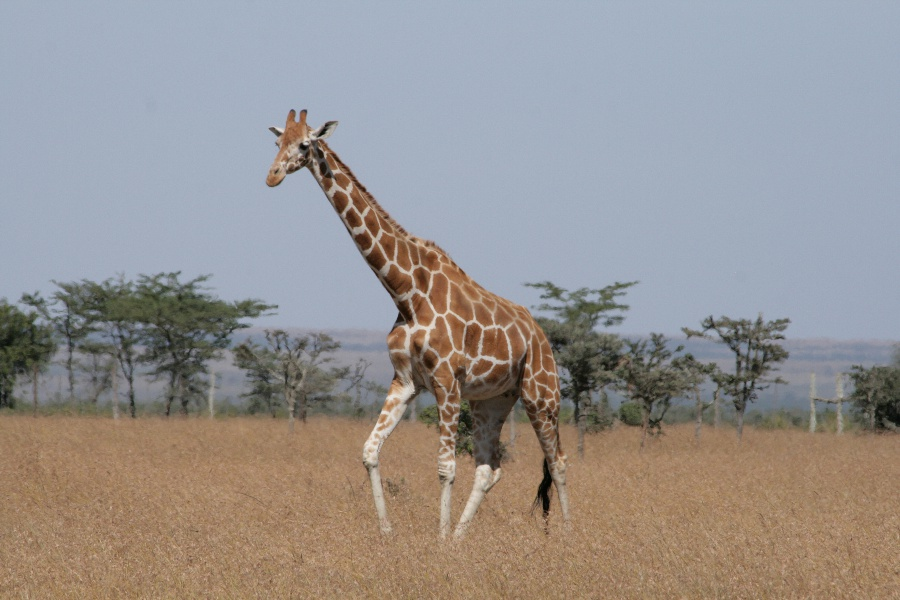giraffe: (257, 94, 586, 540)
